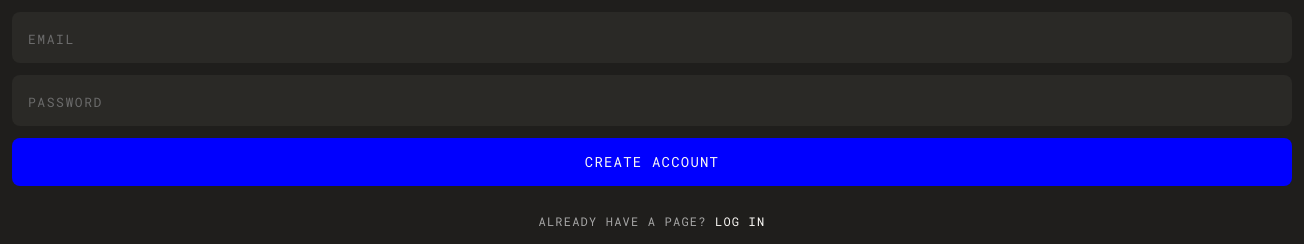
Test: AuthForm › tells the athlete to confirm their email when no session comes back
The image size is (1304, 244).
In the field with placeholder "Email": {"x": 652, "y": 38} [12,12,1292,63], type "a@b.com"
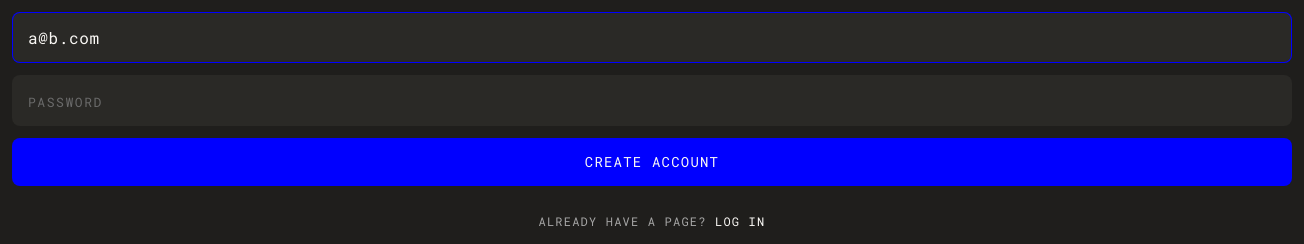
In the password field with placeholder "Password": {"x": 652, "y": 101} [12,75,1292,126], type "secret123"
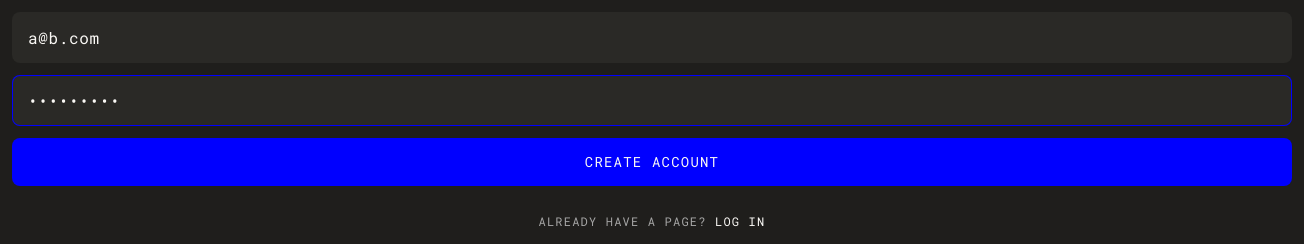
Click the button "Create account": {"x": 652, "y": 162} [12,138,1292,186]
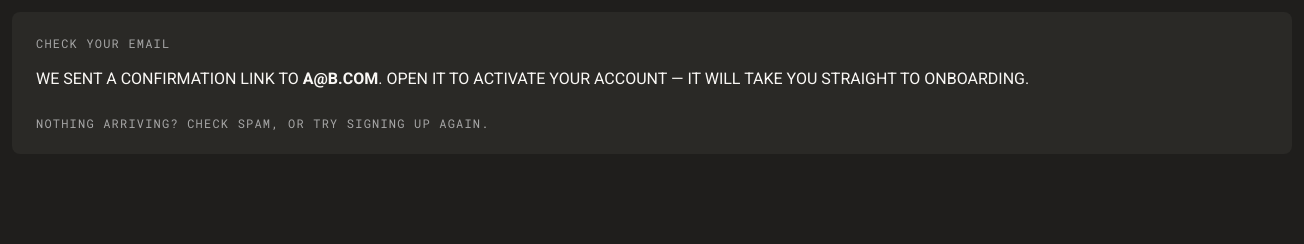
Now the text "Check your email" is shown, box [36,35,170,51]
Now the text "a@b.com" is shown, box [303,69,378,88]
